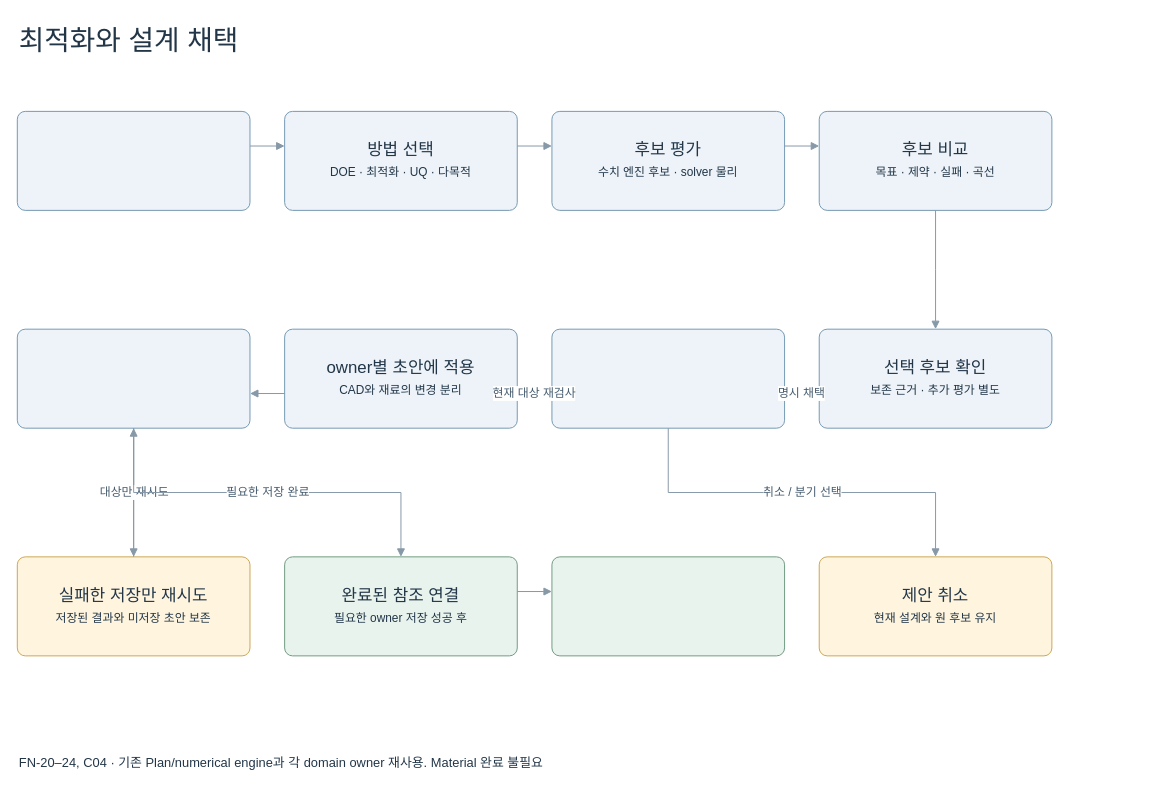
Some shapes in this 1163 by 801 pixel diagram are drawn without their labels. Here are the shapes that lost their labels. From the top down, the centre of each, then its label:
At (133,160): "연구 정의 모델 · 변수 · 응답".
At (133,378): "owner별 저장 성공 · 실패를 각각 표시".
At (668,378): "설계 변경 검토 이전 · 현재 · 제안 비교".
At (668,606): "설계 저장 · 다시 열기 같은 새 설계와 이전 평가 근거".
